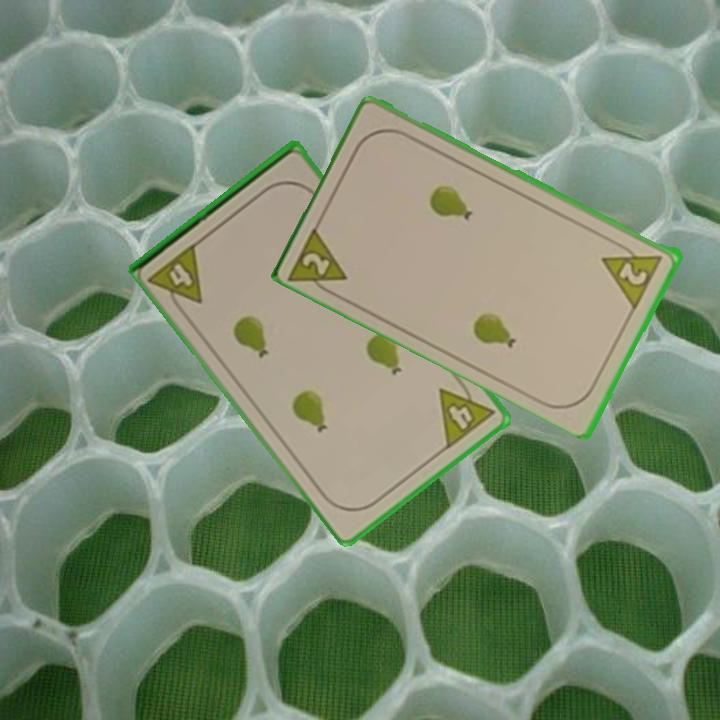2p: (285, 220, 352, 301), (598, 235, 666, 310)
4p: (435, 372, 498, 452), (146, 239, 206, 318)
